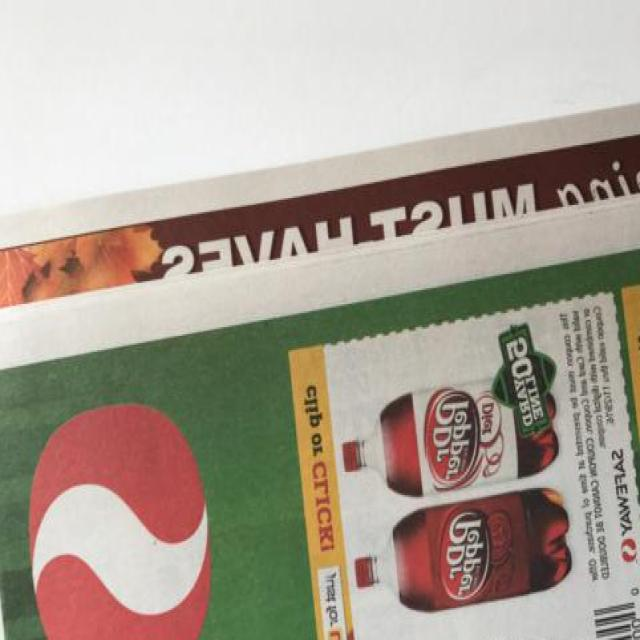kertas: (0, 102, 640, 640)
